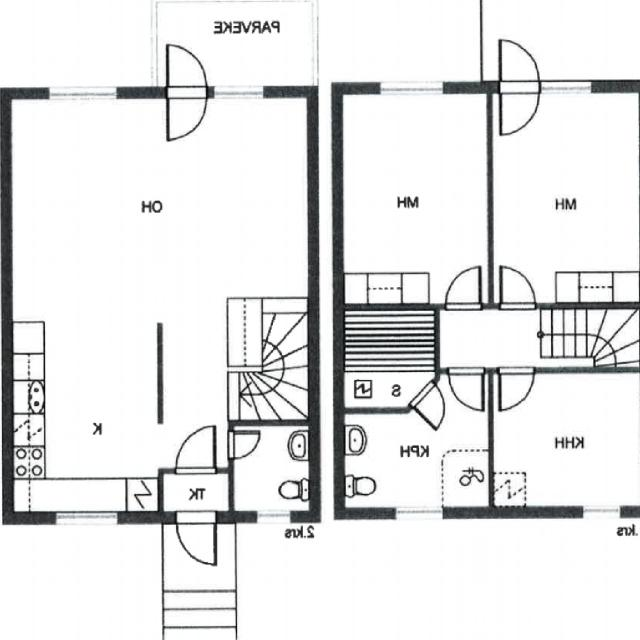door: (409, 380, 458, 430), (500, 38, 540, 93), (500, 80, 540, 134), (168, 44, 207, 98), (168, 85, 207, 139), (176, 510, 214, 564), (176, 428, 214, 473), (500, 266, 536, 310), (445, 267, 481, 309), (499, 367, 534, 409), (450, 367, 483, 409), (228, 431, 261, 459)
